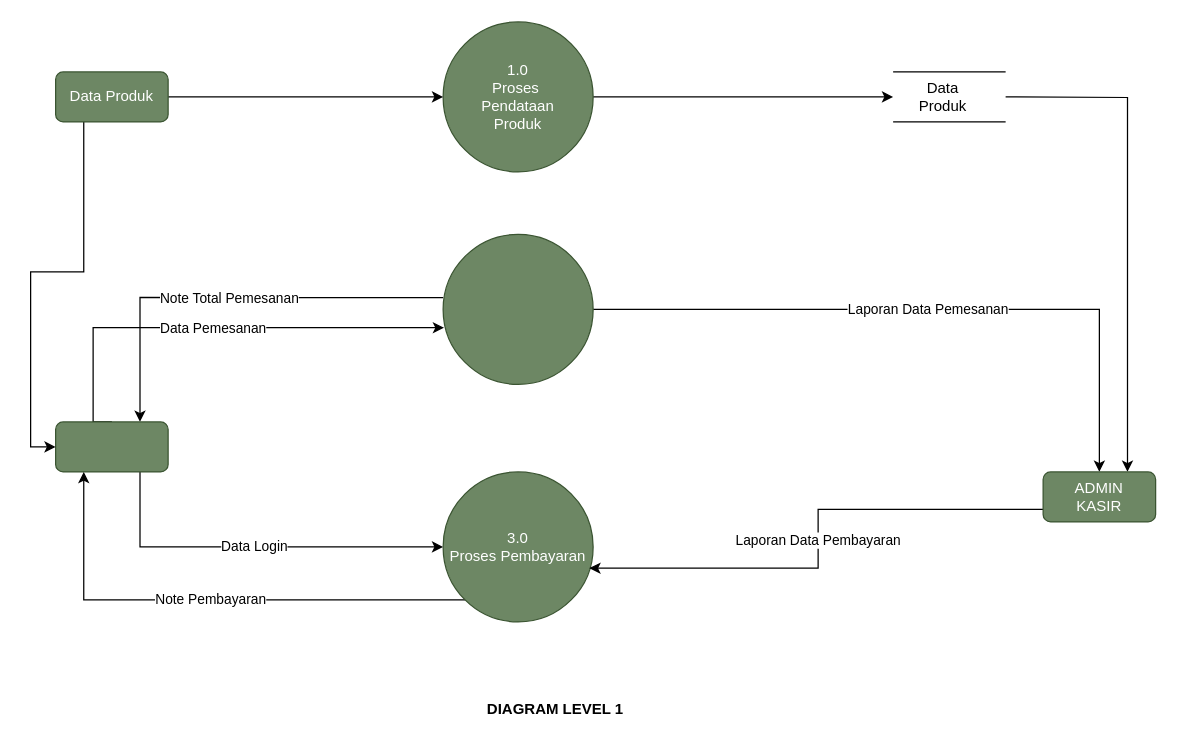
Some shapes in this 1178 by 744 pixel diagram are drawn without their labels. Here are the shapes that lost their labels. From the top down, the box of each, then its label:
(442, 233, 593, 384): 2.0 Proses Pemesanan
(54, 421, 168, 472): Customer
